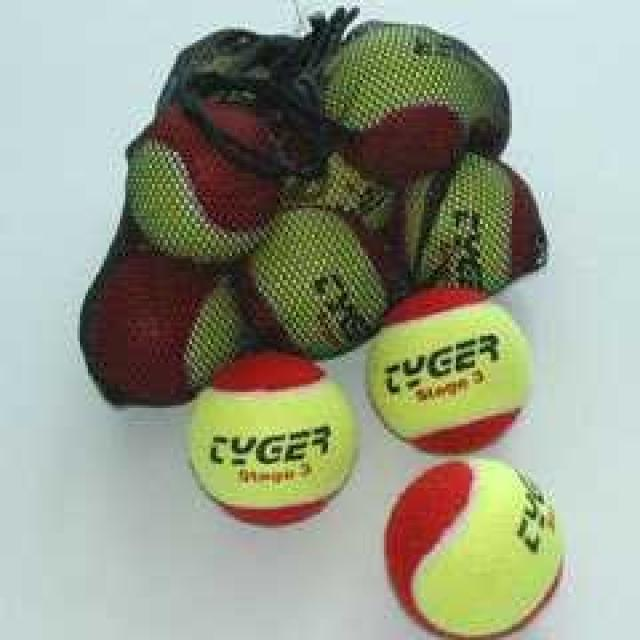Tennis_Ball: (373, 456, 560, 631), (367, 284, 526, 460), (196, 356, 340, 522), (80, 259, 239, 394), (329, 18, 467, 158), (386, 163, 540, 287), (243, 215, 391, 341), (142, 99, 283, 231)
